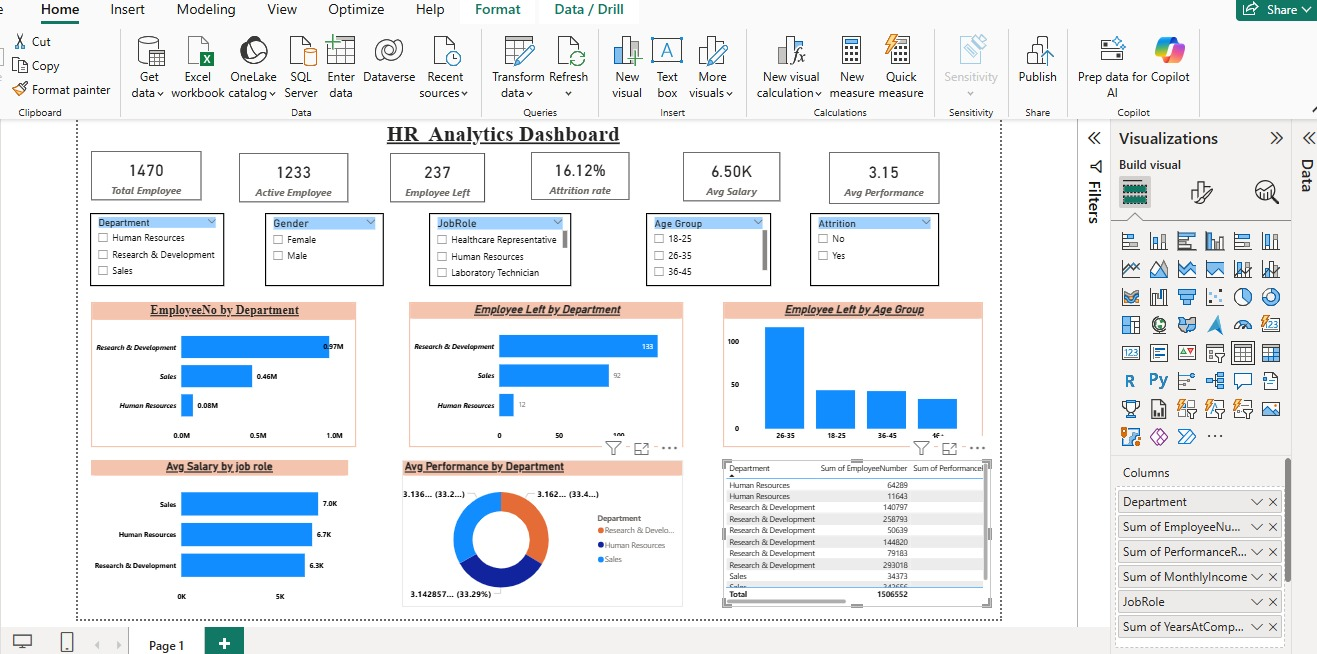

This screenshot's page, from the dashboard's own definition file:
{"tool":"powerbi","page":{"name":"Page 1","canvas":[1615,875],"ordinal":0},"visuals":[{"type":"textbox","box":[535.9,0,430,72.2],"z":0},{"type":"card","fields":{"Values":["HR ANALYTICS.Total Employee"]},"box":[22.8,56,225.8,85.8],"z":1000},{"type":"card","fields":{"Values":["HR ANALYTICS.Active Employee"]},"box":[281.8,59.5,204.8,85.8],"z":2000},{"type":"card","fields":{"Values":["HR ANALYTICS.Employee Left"]},"box":[546,59.5,192.5,85.8],"z":3000},{"type":"card","fields":{"Values":["HR ANALYTICS.Attrition rate"]},"box":[792.8,57.8,187.2,84],"z":4000},{"type":"card","fields":{"Values":["HR ANALYTICS.Average Monthly Income"]},"box":[1058.8,57.8,203,85.8],"z":5000},{"type":"card","fields":{"Values":["HR ANALYTICS.Average Performance"]},"box":[1314.2,57.8,204.8,91],"z":6000},{"type":"clusteredBarChart","title":" EmployeeNo by Department","fields":{"Category":["HR ANALYTICS.Department"],"Y":["Sum(HR ANALYTICS.EmployeeNumber)"]},"box":[22.8,320.2,463.8,253.8],"z":7000},{"type":"clusteredBarChart","fields":{"Category":["HR ANALYTICS.Department"],"Y":["HR ANALYTICS.Employee Left"]},"box":[579.2,320.2,479.5,253.8],"z":8000},{"type":"clusteredBarChart","title":"Avg Salary by job role ","fields":{"Category":["HR ANALYTICS.Department"],"Y":["HR ANALYTICS.Average Monthly Income"]},"box":[22.8,596.8,449.8,257.2],"z":9000},{"type":"donutChart","title":"Avg Performance by Department","fields":{"Category":["HR ANALYTICS.Department"],"Y":["HR ANALYTICS.Average Performance"]},"box":[567,596.8,491.8,257.2],"z":10000},{"type":"clusteredColumnChart","fields":{"Category":["HR ANALYTICS.Age Group"],"Y":["HR ANALYTICS.Employee Left"]},"box":[1128.8,320.2,455,253.8],"z":11000},{"type":"tableEx","fields":{"Values":["HR ANALYTICS.Department","Sum(HR ANALYTICS.EmployeeNumber)","Sum(HR ANALYTICS.PerformanceRating)","Sum(HR ANALYTICS.MonthlyIncome)","HR ANALYTICS.JobRole","Sum(HR ANALYTICS.YearsAtCompany)"]},"box":[1128.8,596.8,469,257.2],"z":12000},{"type":"slicer","fields":{"Values":["HR ANALYTICS.Department"]},"box":[21.8,164.6,235.2,127.7],"z":13000},{"type":"slicer","fields":{"Values":["HR ANALYTICS.Gender"]},"box":[327.2,164.5,208.2,127.8],"z":14000},{"type":"slicer","fields":{"Values":["HR ANALYTICS.JobRole"]},"box":[614.2,164.5,248.5,127.8],"z":15000},{"type":"slicer","fields":{"Values":["HR ANALYTICS.Age Group"]},"box":[994,164.5,218.8,127.8],"z":16000},{"type":"slicer","fields":{"Values":["HR ANALYTICS.Attrition"]},"box":[1281,164.5,225.8,127.8],"z":17000}]}

Visuals, with their boxes on the page's 1615x875 design canvas (x1, y1, x2, y2). These are canvas units, not pixel positions in the 1317x654 screenshot, which may show the page scaled, cropped or inside an application window:
textbox: box(536, 0, 966, 72)
card - HR ANALYTICS.Total Employee: box(23, 56, 249, 142)
card - HR ANALYTICS.Active Employee: box(282, 60, 487, 145)
card - HR ANALYTICS.Employee Left: box(546, 60, 738, 145)
card - HR ANALYTICS.Attrition rate: box(793, 58, 980, 142)
card - HR ANALYTICS.Average Monthly Income: box(1059, 58, 1262, 144)
card - HR ANALYTICS.Average Performance: box(1314, 58, 1519, 149)
" EmployeeNo by Department" clusteredBarChart: box(23, 320, 487, 574)
clusteredBarChart - HR ANALYTICS.Department x HR ANALYTICS.Employee Left: box(579, 320, 1059, 574)
"Avg Salary by job role " clusteredBarChart: box(23, 597, 473, 854)
"Avg Performance by Department" donutChart: box(567, 597, 1059, 854)
clusteredColumnChart - HR ANALYTICS.Age Group x HR ANALYTICS.Employee Left: box(1129, 320, 1584, 574)
tableEx - HR ANALYTICS.Department x Sum(HR ANALYTICS.EmployeeNumber): box(1129, 597, 1598, 854)
slicer - HR ANALYTICS.Department: box(22, 165, 257, 292)
slicer - HR ANALYTICS.Gender: box(327, 164, 535, 292)
slicer - HR ANALYTICS.JobRole: box(614, 164, 863, 292)
slicer - HR ANALYTICS.Age Group: box(994, 164, 1213, 292)
slicer - HR ANALYTICS.Attrition: box(1281, 164, 1507, 292)
